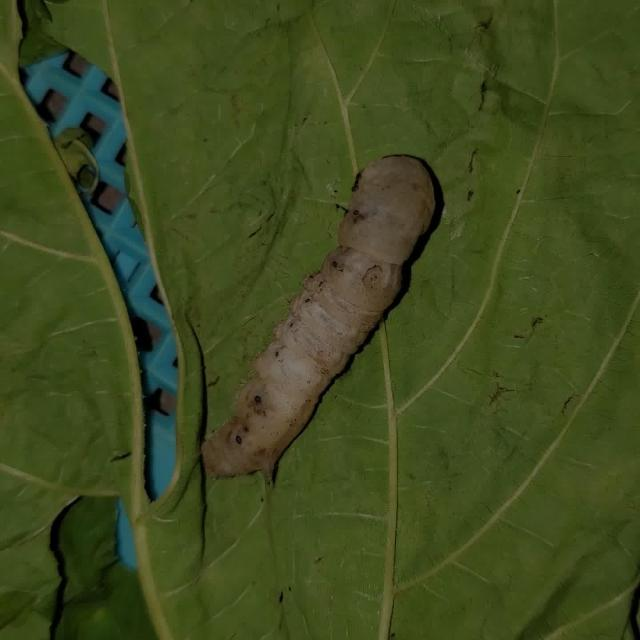Grasserie: (156, 123, 496, 514)
